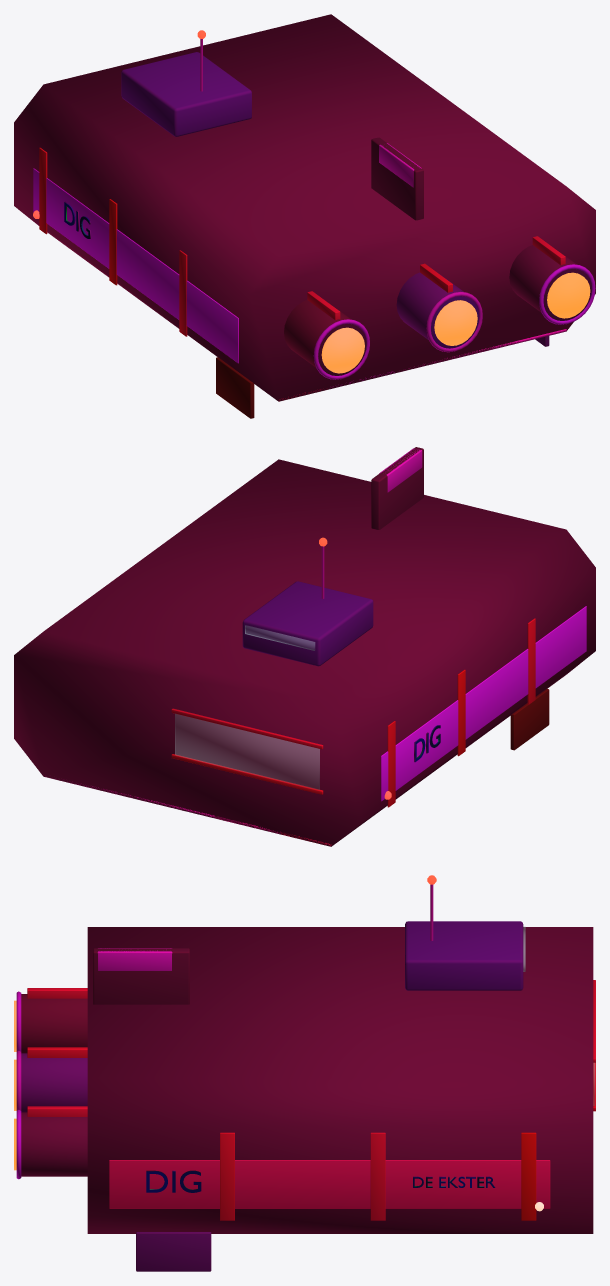
The model's file is ekster.glb.
The picture shows the model from 3 angles, top to bottom: view 1: azimuth 30°, elevation 25°; view 2: azimuth 150°, elevation 25°; view 3: azimuth 270°, elevation 25°; orthographic projection. The views are drawn at different scales.
Parts seen in each view (by area): view 1: Hull; view 2: Hull, Glass; view 3: Hull.
Part boxes in pixels (<box>): Hull: <box>14,14,595,418</box>; Hull: <box>14,447,595,846</box>; Glass: <box>175,625,319,789</box>; Hull: <box>14,875,595,1271</box>.
Size of the model in its own units: 41.21 by 29.35 by 54.1.
